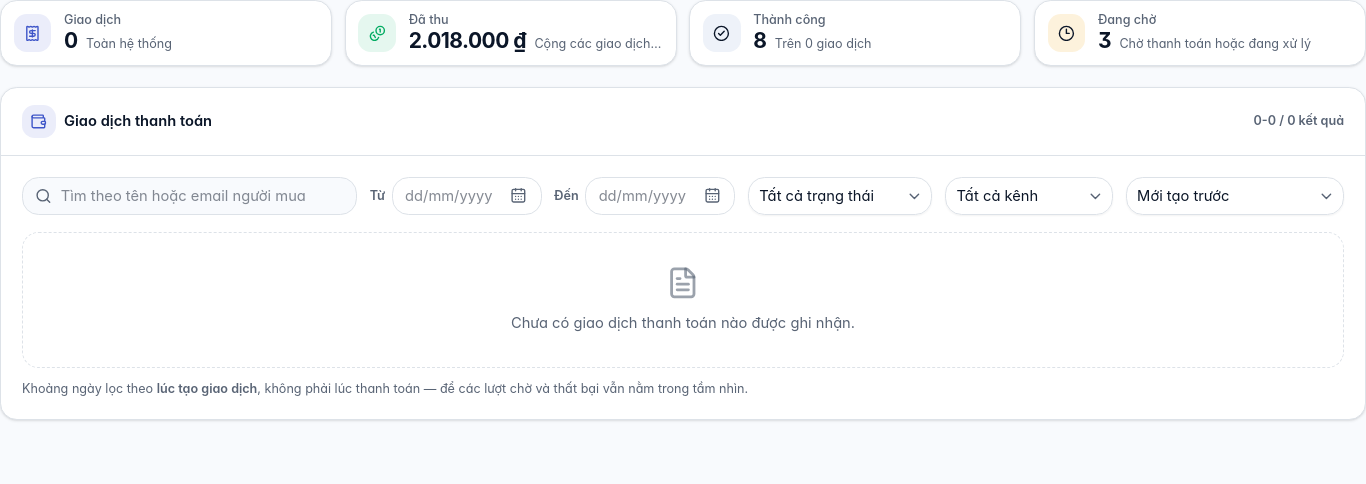
Scenario: <AdminPaymentTransactionsPage /> — thanh bộ lọc một hàng › chỉ đặt 'Đến ngày' mà không khớp dòng nào thì báo 'không khớp bộ lọc', không phải 'chưa có giao dịch'
Expected: the text "Chưa có giao dịch thanh toán nào được ghi nhận." is shown, [22,232,1344,368]
Expected: the button "Xoá bộ lọc" is not shown
Type "05/10/2026" into the field named "Đến ngày" at (660, 196), box [585,177,735,215]
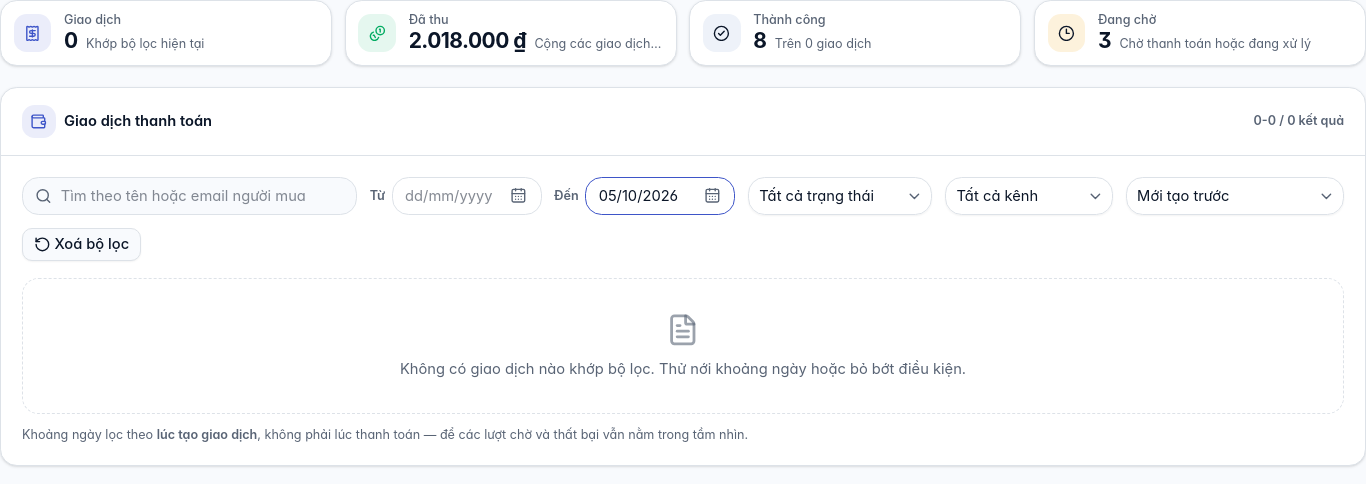
Expected: the text "Không có giao dịch nào khớp bộ lọc" is shown, [400,360,966,378]
Expected: the button "Xoá bộ lọc" is shown, [22,228,141,261]
